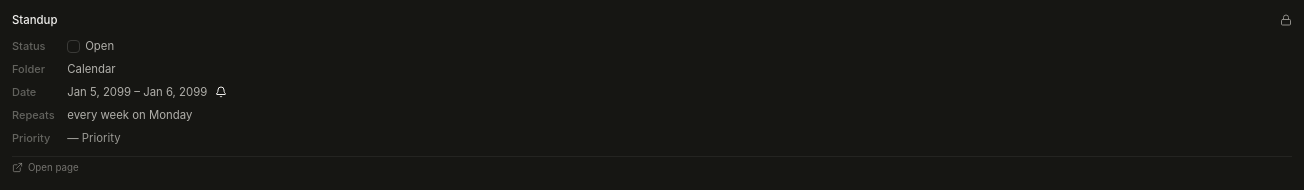
Test case: PageBlockPopover — reminder bell › offers the day-before reminder on a locked all-day recurring series
Press the mouse on the button named "Page reminders": (221, 92) top-left (215, 86), bottom-right (227, 98)
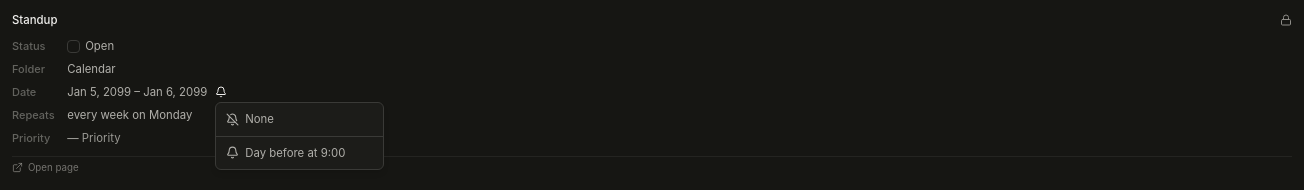
Result: the menu item "Day before at 9:00" is shown at top-left (226, 146), bottom-right (345, 160)
